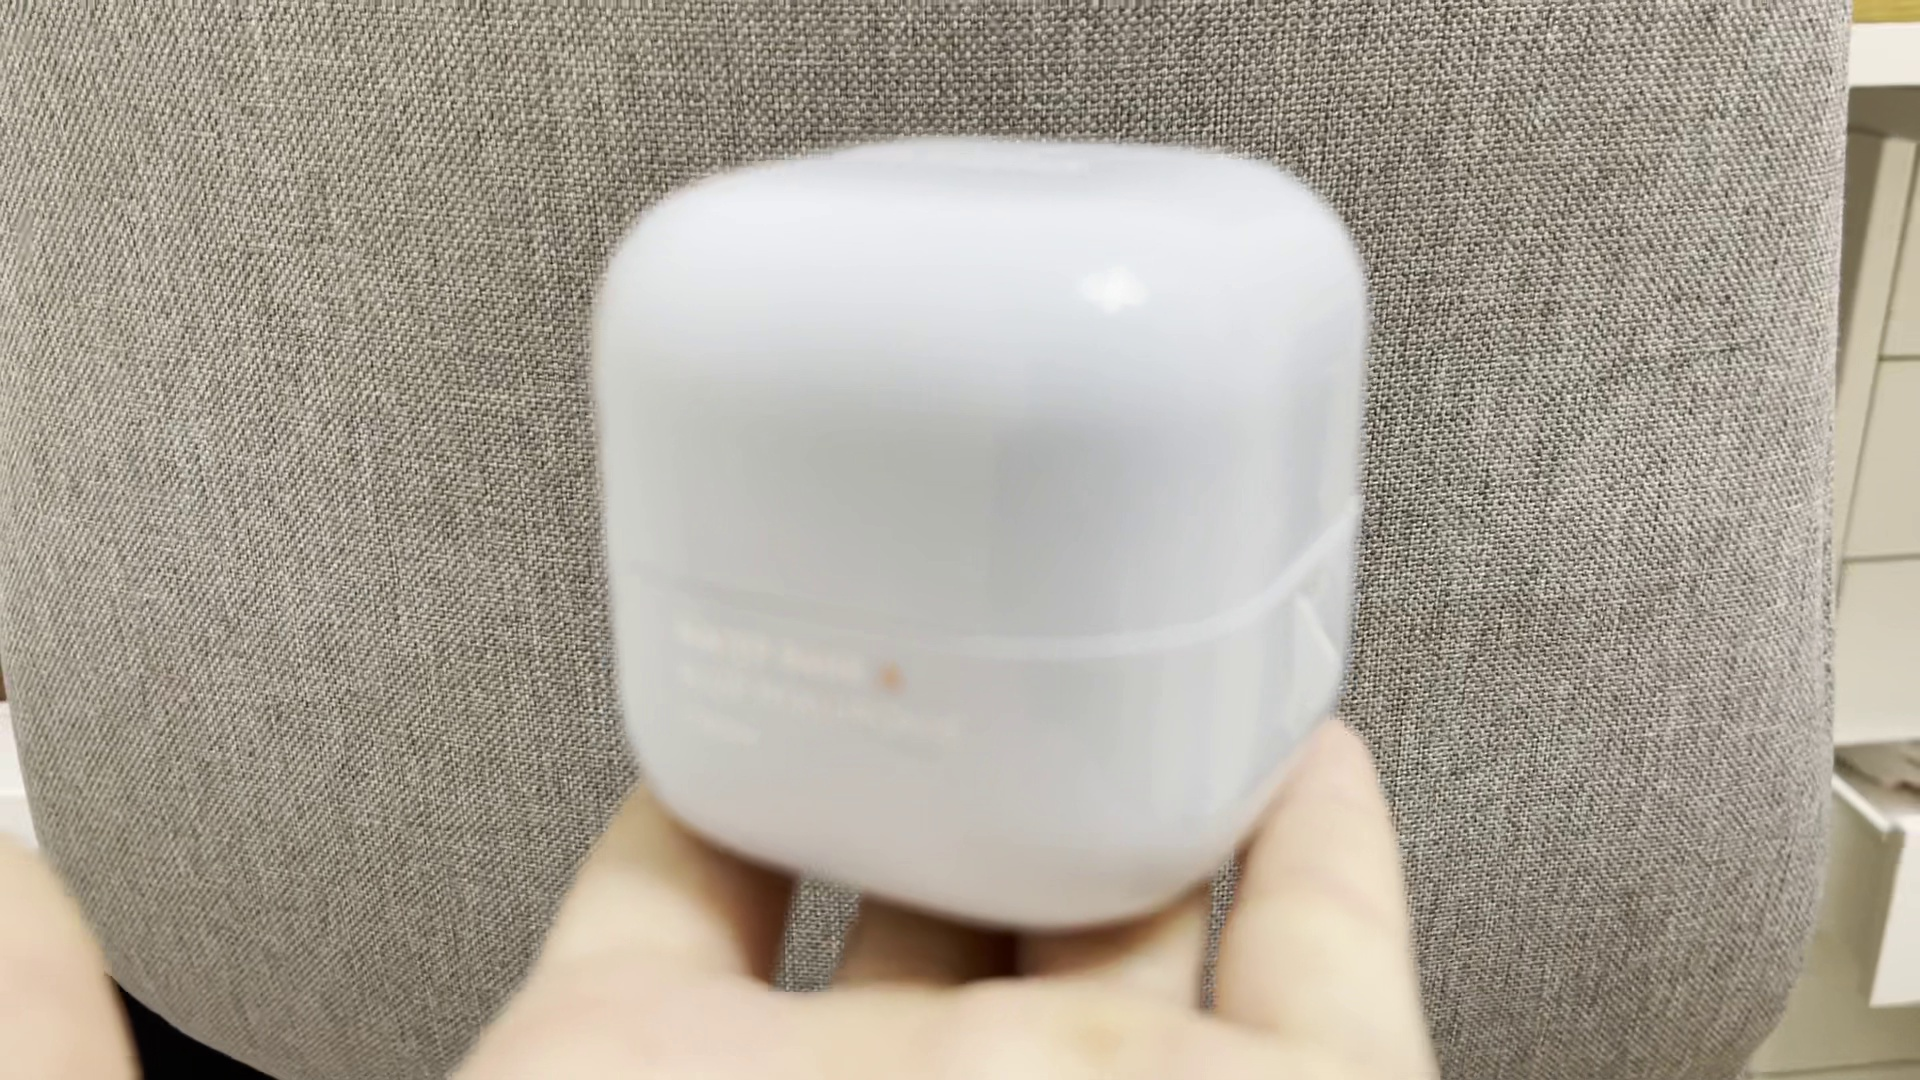cream: (585, 140, 1364, 928)
